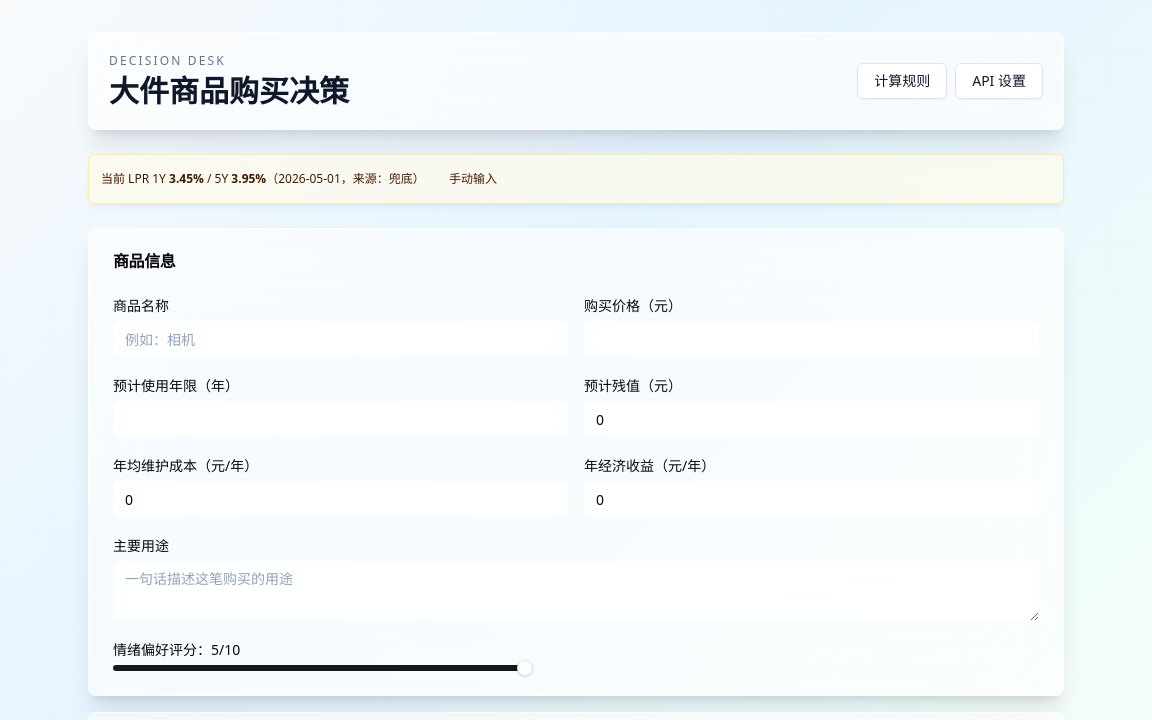
Test case: App integration › opens the algorithm rules dialog
What coordinates should you click on to do the following:
click the button "计算规则"
I would click on:
 (902, 81)
Its box is 857,63 -> 947,99.
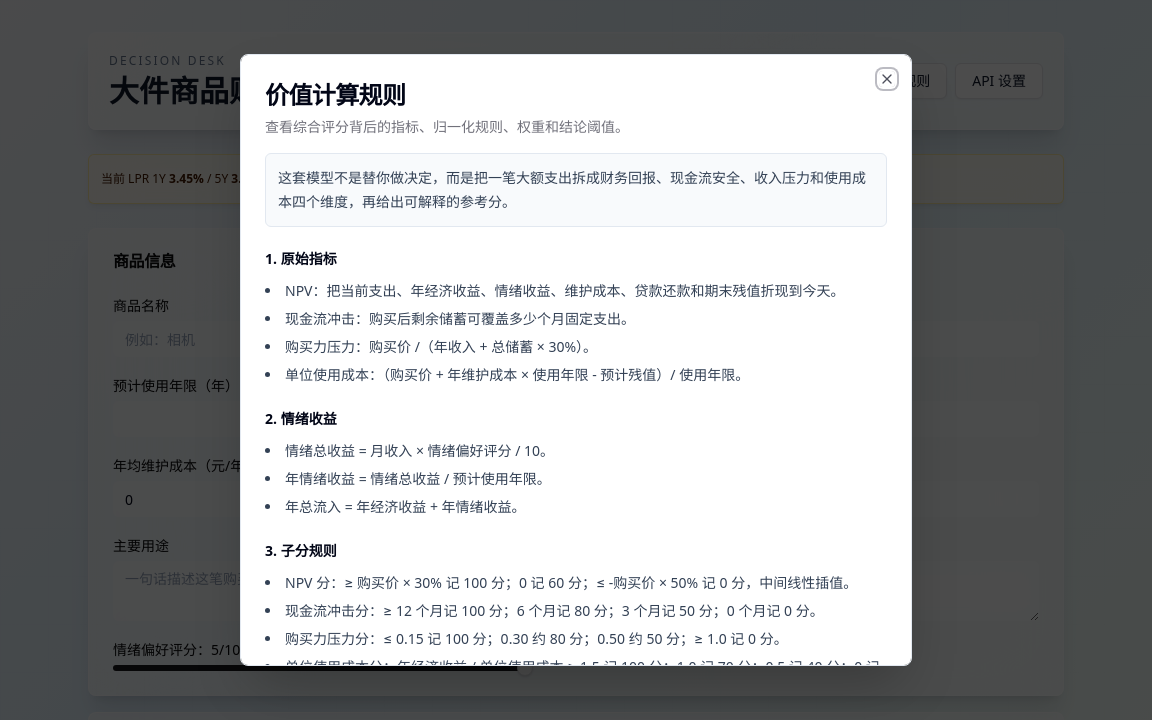
expect the heading "价值计算规则" is shown: met, box 265,78 -> 405,111
expect the list item "购买力压力：购买价 /（年收入 + 总储蓄 × 30%）。" is shown: met, box 285,337 -> 597,356
